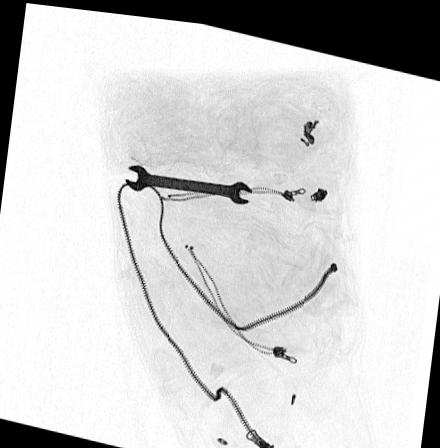Wrench: (123, 160, 253, 199)
